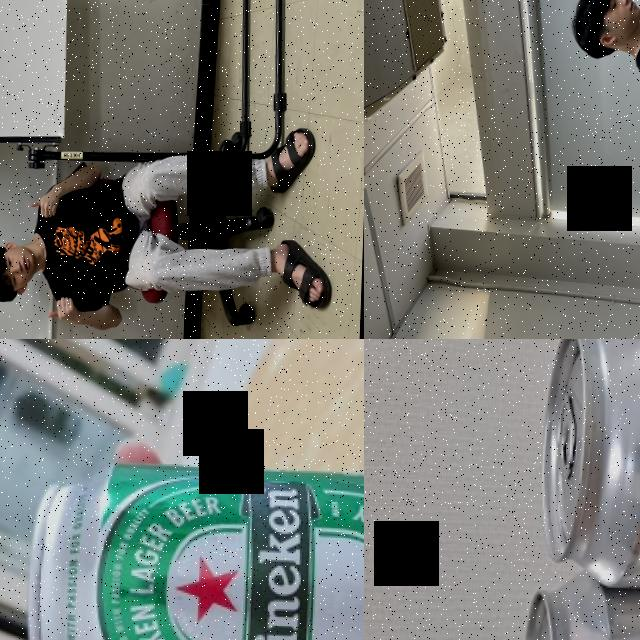can: (23, 459, 364, 640), (538, 339, 640, 591)
